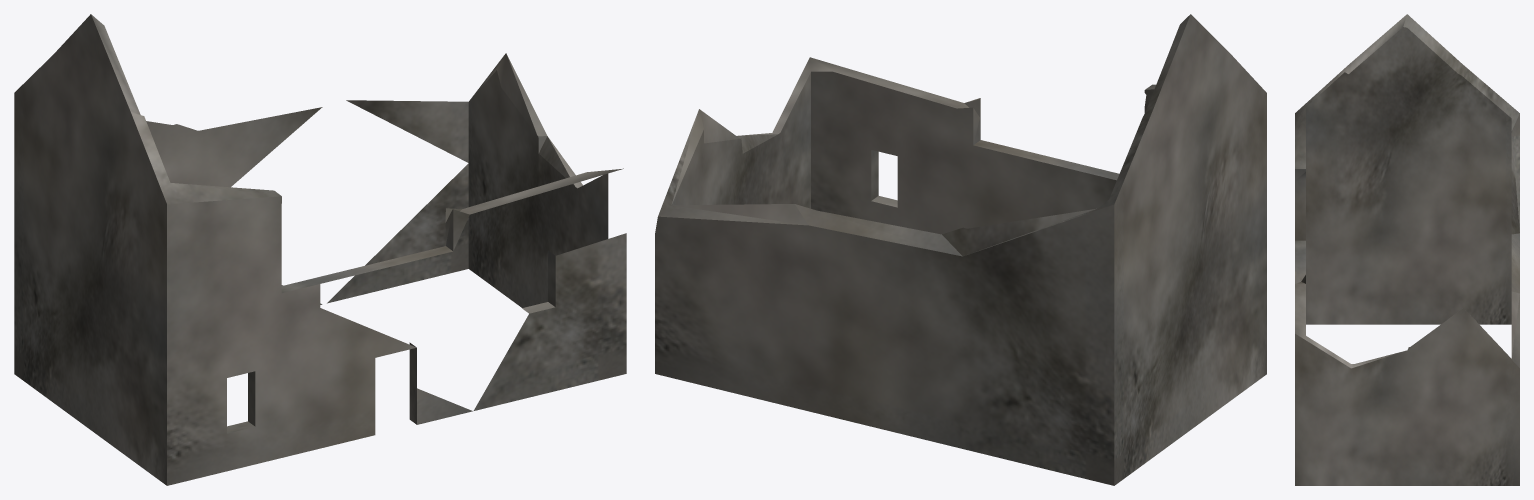
The model's file is house1.gltf.
3 renders of one model, left to right at view 1: azimuth 30°, elevation 25°; view 2: azimuth 150°, elevation 25°; view 3: azimuth 270°, elevation 25°, orthographic. The views are drawn at different scales.
Parts seen in each view (by area): view 1: house1_atomic0; view 2: house1_atomic0; view 3: house1_atomic0.
Boxes of the visible parts, x1,y1,x2,y2 form: house1_atomic0: (14,14,626,485); house1_atomic0: (655,14,1266,485); house1_atomic0: (1295,14,1519,485).
Size of the model in its own units: 60 by 51.95 by 34.52.
1 material, 1 textured.
